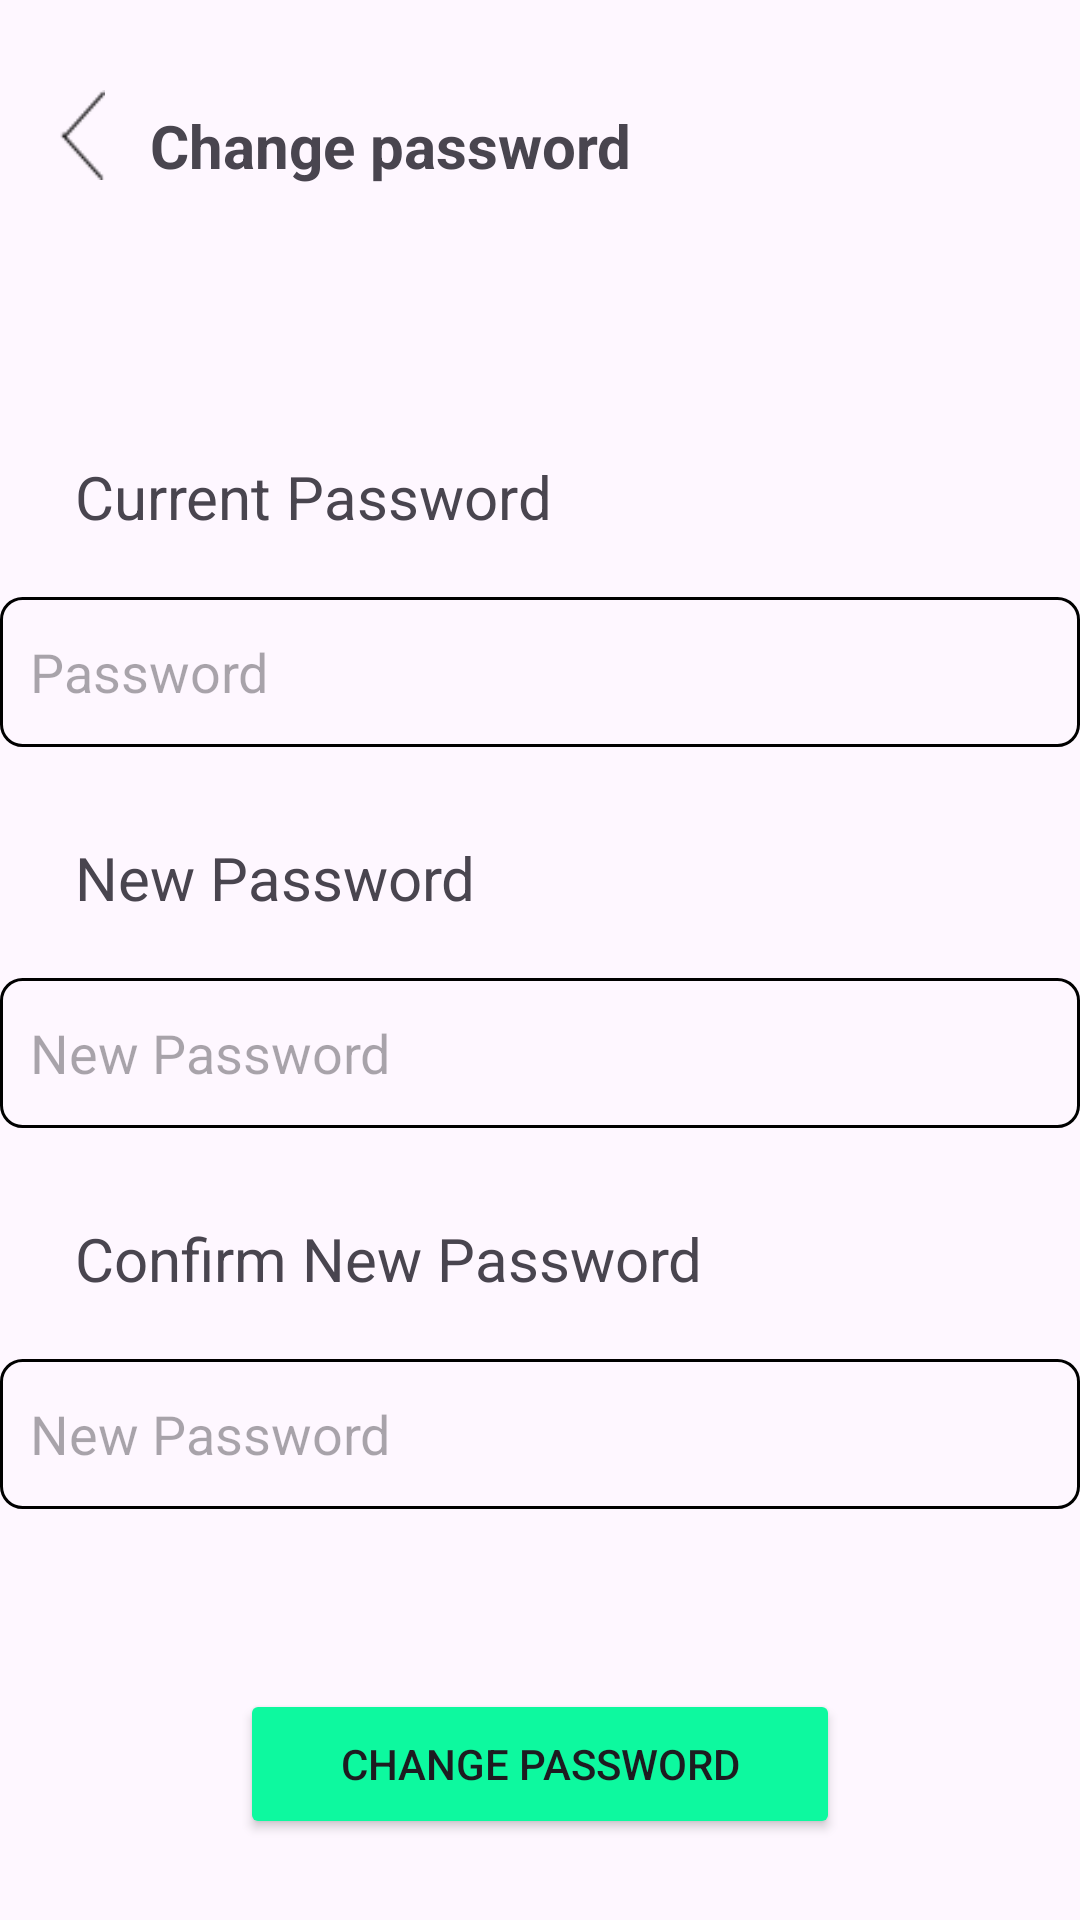

Icons on this 1080px×1920px Android screen, each with the point to tap as (x=x, y=y):
back: (x=83, y=135)
